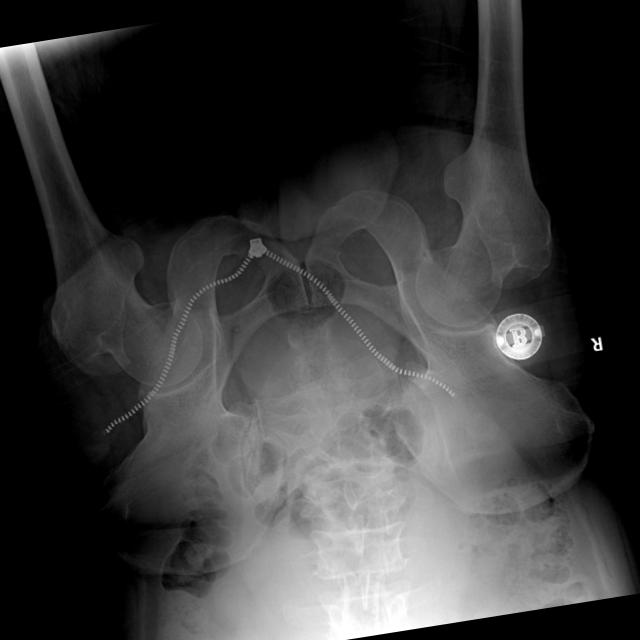normal-left: (18, 120, 202, 387)
normal-right: (414, 41, 551, 326)
